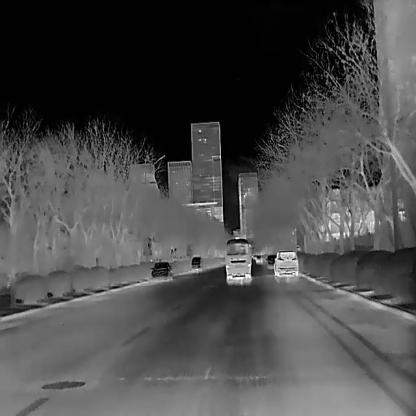car: (224, 238, 252, 280), (273, 250, 297, 277), (149, 261, 171, 279), (190, 255, 201, 271), (265, 254, 276, 268), (254, 255, 263, 263)
